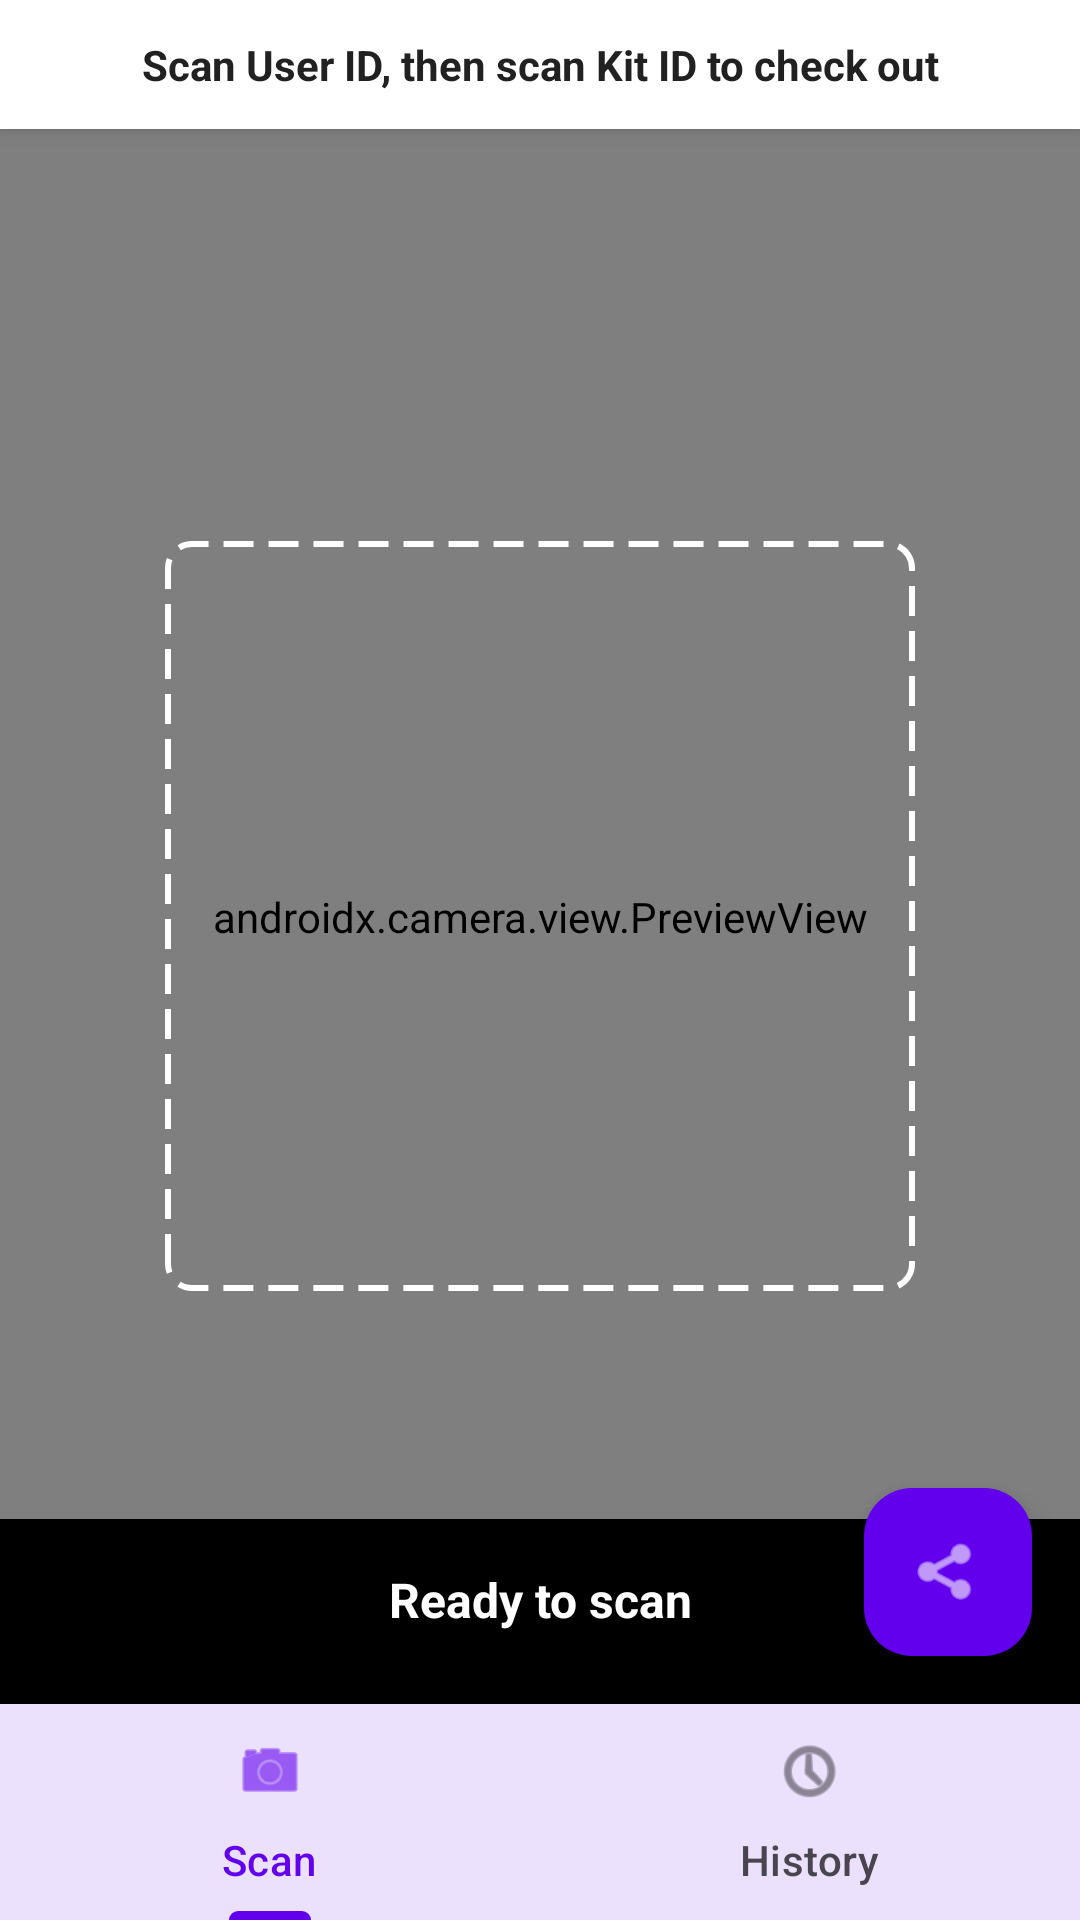

Where to tap for icons on this 1080 × 1920 app screen, as (x,y):
Export data: (948,1572)
